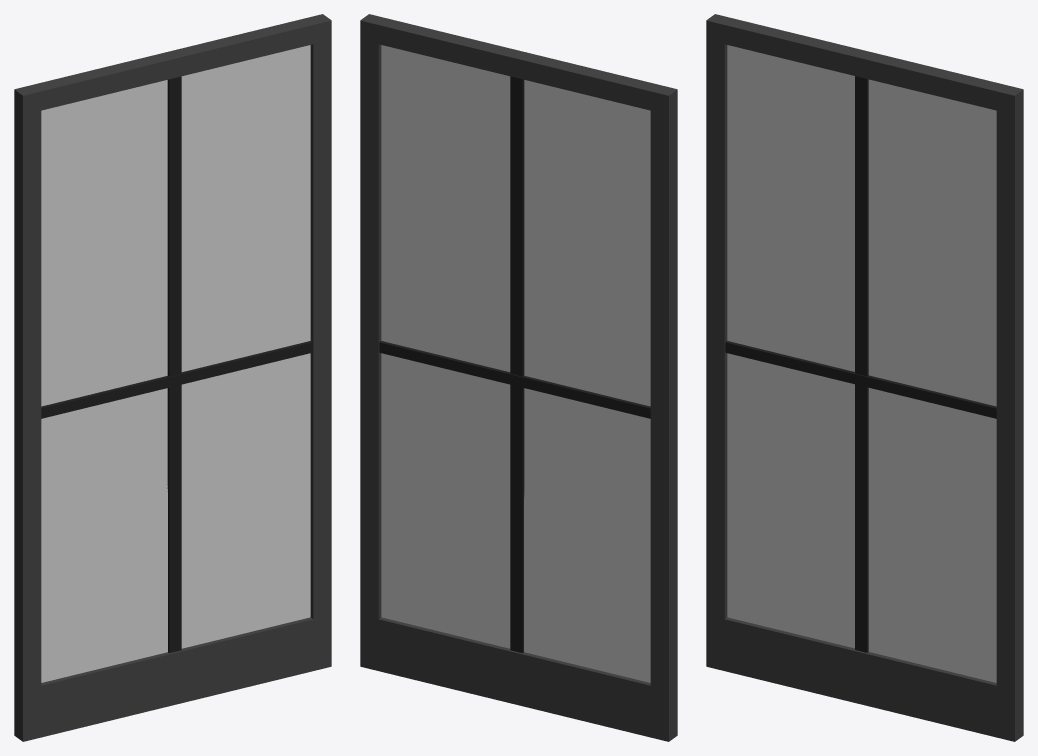
File: wall_024.fbx
3 renders of one model, left to right at view 1: azimuth 30°, elevation 25°; view 2: azimuth 150°, elevation 25°; view 3: azimuth 330°, elevation 25°, orthographic.
Parts seen in each view (by area): view 1: wall_024; view 2: wall_024; view 3: wall_024.
Part boxes in pixels (x1,y1,x2,y2): wall_024: (14, 14, 331, 741); wall_024: (360, 14, 677, 741); wall_024: (706, 14, 1023, 741).
Size of the model in its own units: 200 by 10 by 400.
